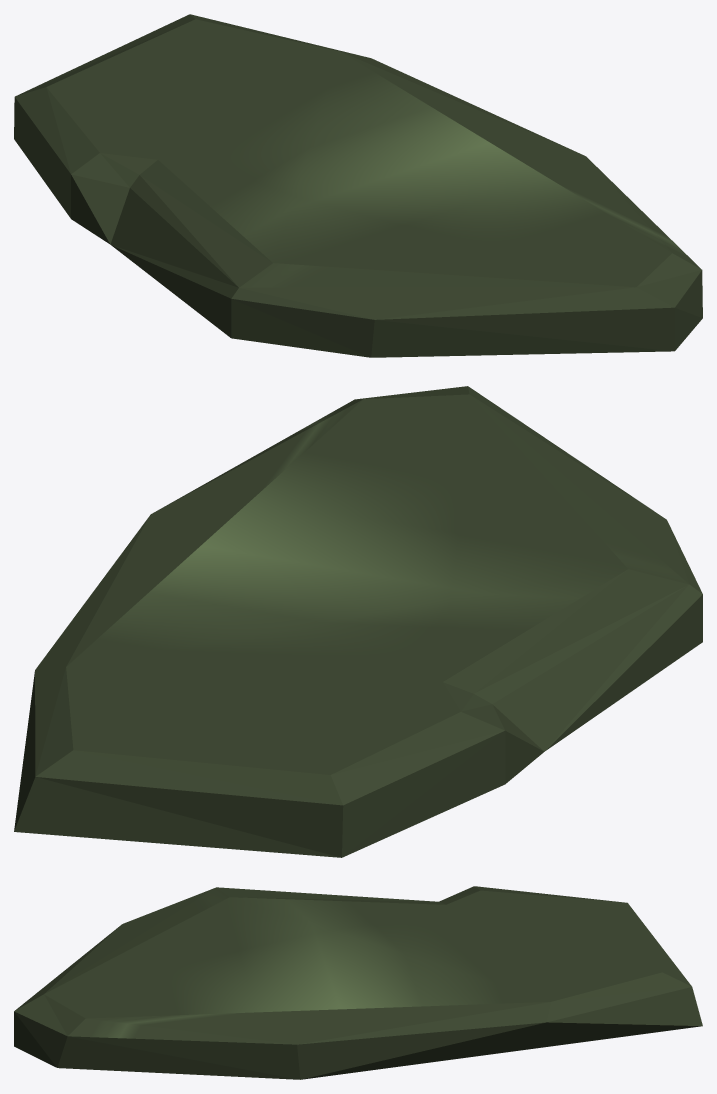
Rendered from EA_Swamp_Mud_01a.glb.
3 views of the same model, one above another, from view 1: azimuth 30°, elevation 25°; view 2: azimuth 150°, elevation 25°; view 3: azimuth 270°, elevation 25° (orthographic). The views are drawn at different scales.
Parts seen in each view (by area): view 1: EA_Swamp_Mud_01a; view 2: EA_Swamp_Mud_01a; view 3: EA_Swamp_Mud_01a.
Boxes of the visible parts, x1,y1,x2,y2 form: EA_Swamp_Mud_01a: (14, 14, 702, 357); EA_Swamp_Mud_01a: (14, 386, 702, 857); EA_Swamp_Mud_01a: (14, 886, 702, 1079).
Bounding box in the file's own units: 6.65 × 0.8644 × 12.15.
Materials: 1 (1 with a texture image).
